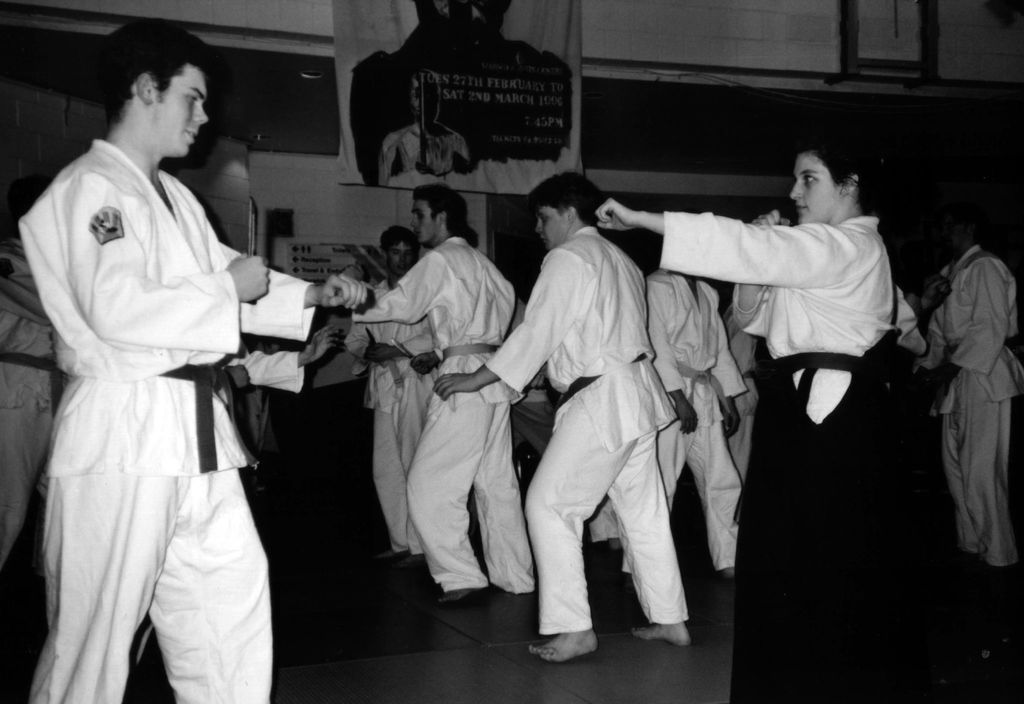Person: (17, 17, 1023, 703)
